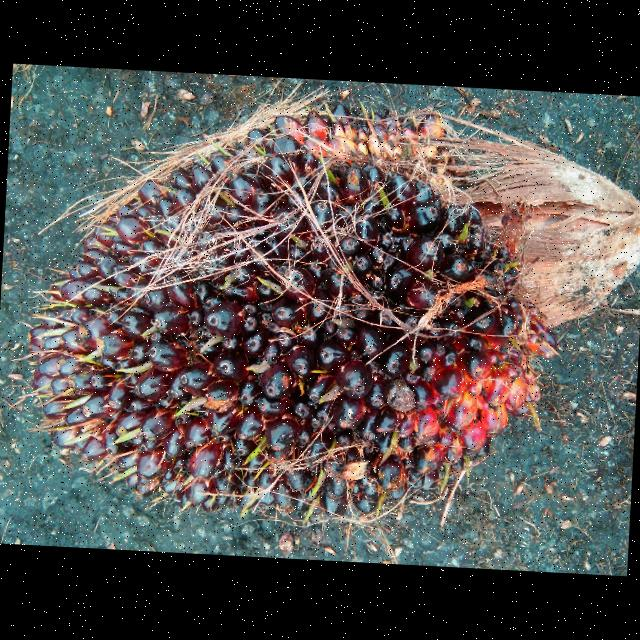Unripe: (34, 109, 540, 510)
